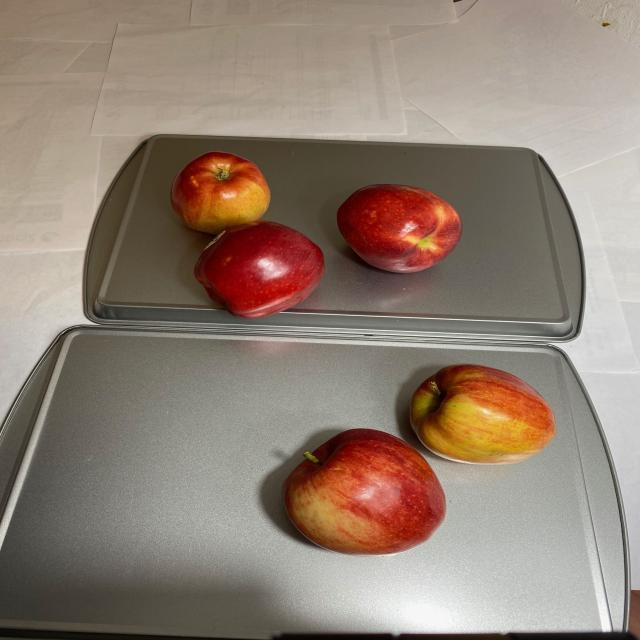apple: (274, 361, 557, 554), (168, 151, 465, 313)
